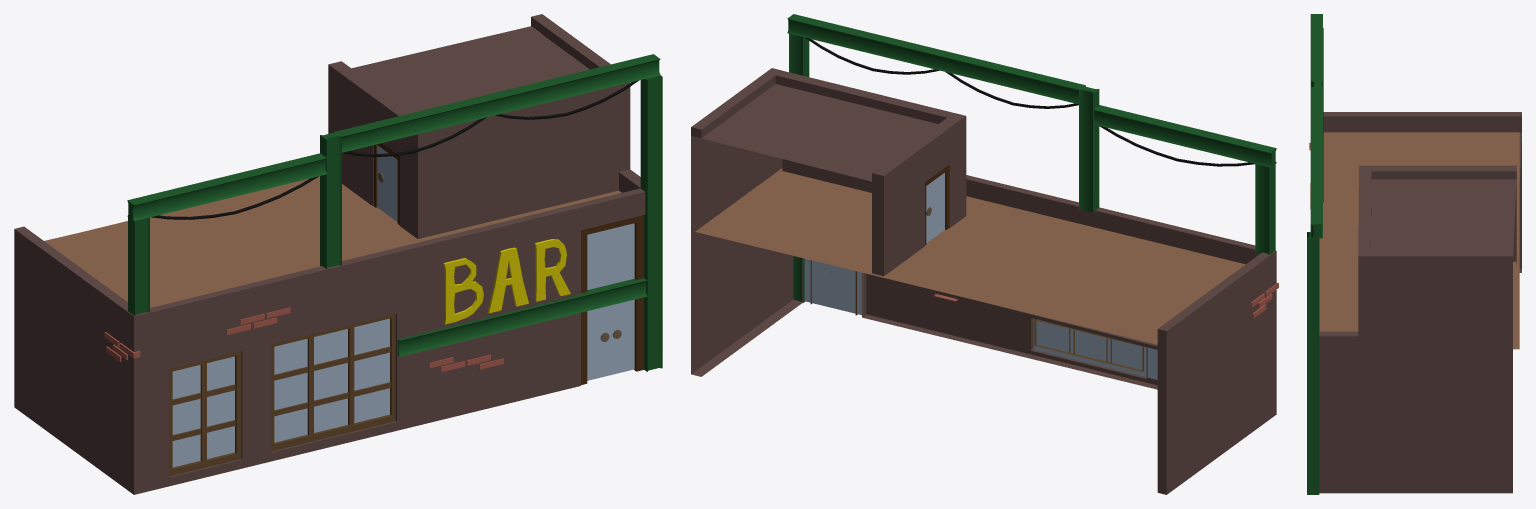
The model's file is bar.fbx.
The picture shows the model from 3 angles, left to right: view 1: azimuth 30°, elevation 25°; view 2: azimuth 150°, elevation 25°; view 3: azimuth 270°, elevation 25°; orthographic projection. The views are drawn at different scales.
Visible parts, largest first — view 1: polySurface3, vigas, piso_planta_2, vidrio_puerta3, marco_puerta_4, b1, ladrillo13, cable_3; view 2: polySurface3, piso_planta_2, vigas, vidrio_puerta3, marco_puerta_4, cable_3; view 3: polySurface3, piso_planta_2, vigas.
Boxes of the visible parts, box(x1,y1,x2,y2) form: polySurface3: box(14, 14, 645, 494); vigas: box(127, 54, 662, 371); piso_planta_2: box(44, 176, 621, 307); vidrio_puerta3: box(172, 145, 634, 467); marco_puerta_4: box(169, 143, 643, 476); b1: box(443, 239, 570, 324); ladrillo13: box(104, 307, 503, 372); cable_3: box(151, 80, 639, 219); polySurface3: box(691, 68, 1276, 494); piso_planta_2: box(695, 168, 1245, 344); vigas: box(787, 14, 1276, 302); vidrio_puerta3: box(804, 172, 1157, 379); marco_puerta_4: box(810, 165, 1143, 371); cable_3: box(805, 37, 1254, 166); polySurface3: box(1319, 112, 1521, 493); piso_planta_2: box(1319, 132, 1519, 349); vigas: box(1307, 14, 1323, 494).
Size of the model in its own units: 34.67 by 19.34 by 13.89.
